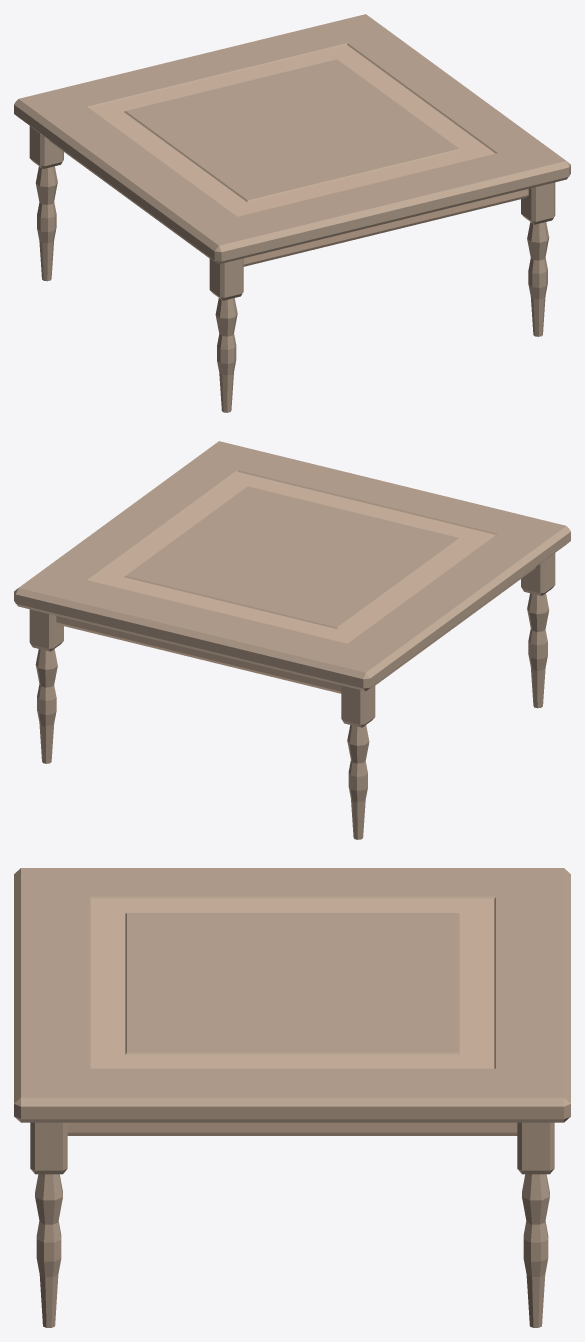
File: Prop_Dining_Room_Table_Square.glb
3 renders of one model, top to bottom at view 1: azimuth 30°, elevation 25°; view 2: azimuth 150°, elevation 25°; view 3: azimuth 270°, elevation 25°, orthographic. The views are drawn at different scales.
Parts seen in each view (by area): view 1: Prop_Dining_Room_Table_Square; view 2: Prop_Dining_Room_Table_Square; view 3: Prop_Dining_Room_Table_Square.
Part boxes in pixels (bbox=[...]): Prop_Dining_Room_Table_Square: bbox=[14, 14, 570, 412]; Prop_Dining_Room_Table_Square: bbox=[14, 441, 570, 839]; Prop_Dining_Room_Table_Square: bbox=[14, 868, 570, 1327].
Size of the model in its own units: 2 by 0.95 by 2.
